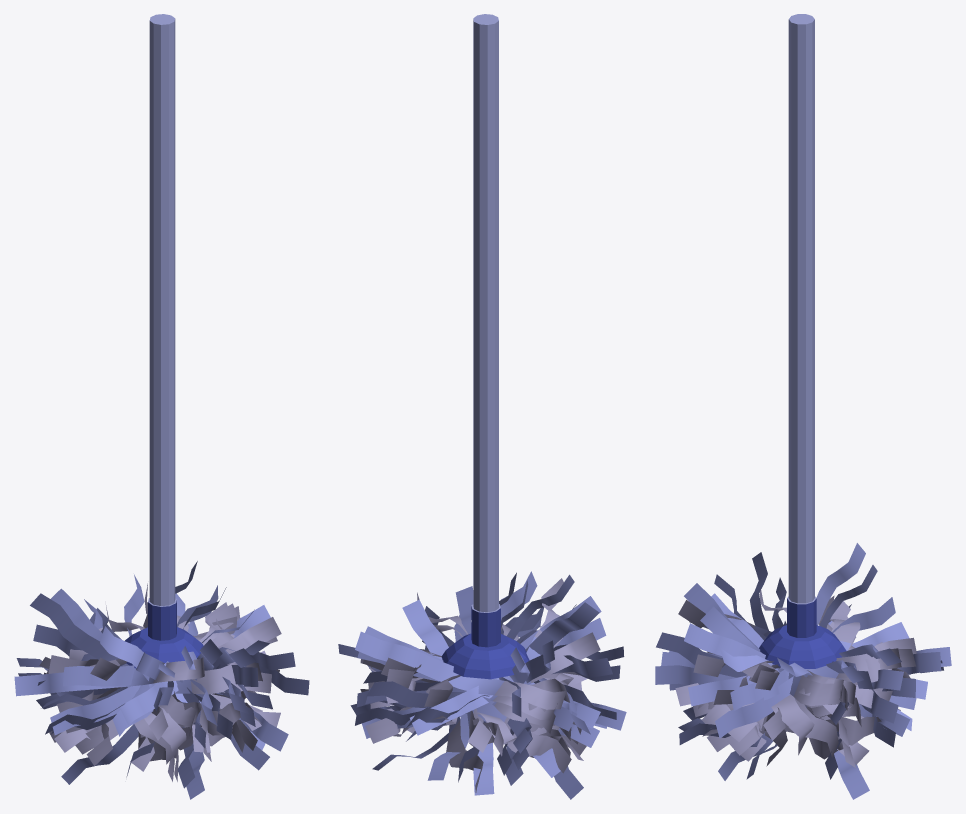
The model's file is mop03.fbx.
The picture shows the model from 3 angles, left to right: view 1: azimuth 30°, elevation 25°; view 2: azimuth 150°, elevation 25°; view 3: azimuth 270°, elevation 25°; orthographic projection.
Parts seen in each view (by area): view 1: Circle.001, SurfCurve.033, SurfCurve.041, SurfCurve.040, SurfCurve.029, SurfCurve.039, SurfCurve.031, SurfCurve.035, SurfCurve.043, SurfCurve.028, SurfCurve.034, SurfCurve.024 (+16 smaller); view 2: Circle.001, SurfCurve.058, SurfCurve.051, SurfCurve.053, SurfCurve.003, SurfCurve.028, SurfCurve.005, SurfCurve.001, SurfCurve.041, SurfCurve.008, SurfCurve.002, SurfCurve.057 (+18 smaller); view 3: Circle.001, SurfCurve.016, SurfCurve.010, SurfCurve.017, SurfCurve.012, SurfCurve.022, SurfCurve.014, SurfCurve.058, SurfCurve.007, SurfCurve.040, SurfCurve.013, SurfCurve.011 (+19 smaller).
Boxes of the visible parts, <box> form: Circle.001: <box>125,14,203,668</box>; SurfCurve.033: <box>50,662,262,735</box>; SurfCurve.041: <box>14,657,204,696</box>; SurfCurve.040: <box>30,593,177,764</box>; SurfCurve.029: <box>120,617,281,725</box>; SurfCurve.039: <box>50,588,186,752</box>; SurfCurve.031: <box>63,665,271,693</box>; SurfCurve.035: <box>61,703,261,784</box>; SurfCurve.043: <box>33,624,196,738</box>; SurfCurve.028: <box>100,626,280,727</box>; SurfCurve.034: <box>45,702,257,750</box>; SurfCurve.024: <box>190,603,238,725</box>; Circle.001: <box>441,14,529,679</box>; SurfCurve.058: <box>355,631,566,709</box>; SurfCurve.051: <box>410,632,600,735</box>; SurfCurve.053: <box>366,681,571,773</box>; SurfCurve.003: <box>402,599,516,744</box>; SurfCurve.028: <box>525,602,599,654</box>; SurfCurve.005: <box>338,644,483,792</box>; SurfCurve.001: <box>365,626,557,720</box>; SurfCurve.041: <box>526,578,590,734</box>; SurfCurve.008: <box>432,586,473,727</box>; SurfCurve.002: <box>357,652,555,733</box>; SurfCurve.057: <box>355,707,570,756</box>; Circle.001: <box>759,14,846,668</box>; SurfCurve.016: <box>655,665,847,710</box>; SurfCurve.010: <box>715,649,916,738</box>; SurfCurve.017: <box>656,632,838,757</box>; SurfCurve.012: <box>684,623,892,708</box>; SurfCurve.022: <box>684,583,814,742</box>; SurfCurve.014: <box>688,648,901,706</box>; SurfCurve.058: <box>830,601,901,665</box>; SurfCurve.007: <box>730,637,916,710</box>; SurfCurve.040: <box>816,543,865,625</box>; SurfCurve.013: <box>700,606,869,764</box>; SurfCurve.011: <box>679,705,881,745</box>.
Size of the model in its own units: 11.47 by 32.24 by 11.63.
